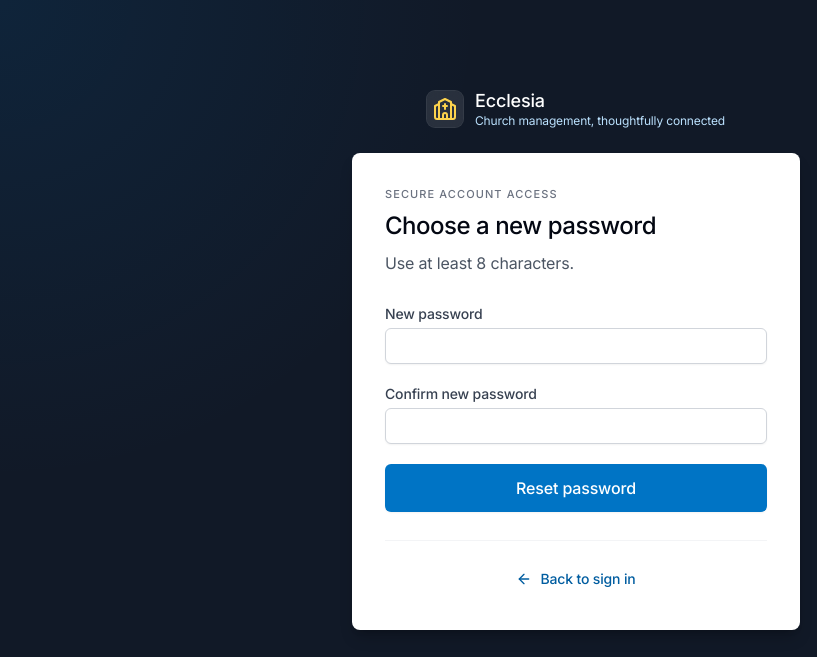
Test case: ResetPasswordPage › blocks submit when passwords do not match
Type "longenough1" into the password field labelled "New password". click: (576,346)
box: [385,328,767,364]
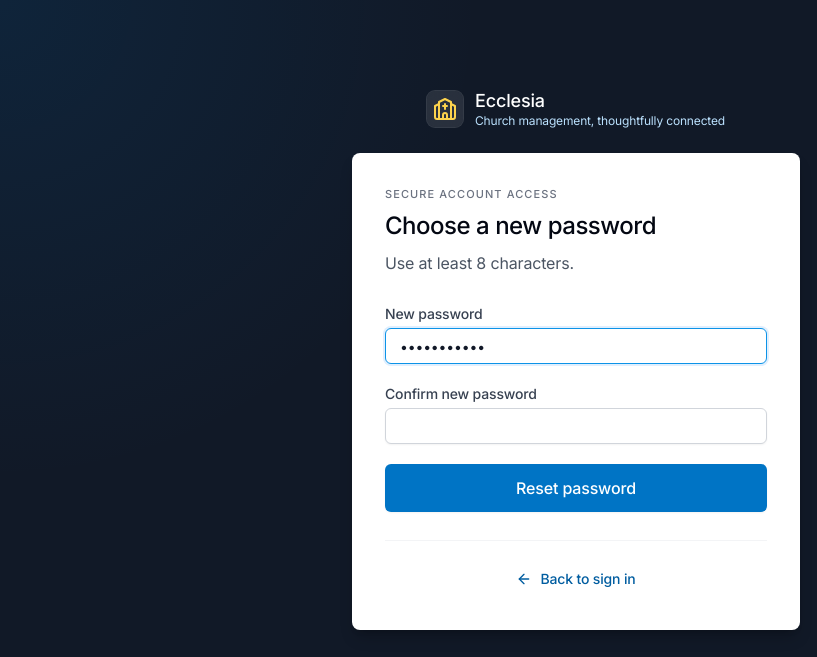
Type "different12" into the password field labelled "Confirm new password". click: (576,426)
box: [385,408,767,444]
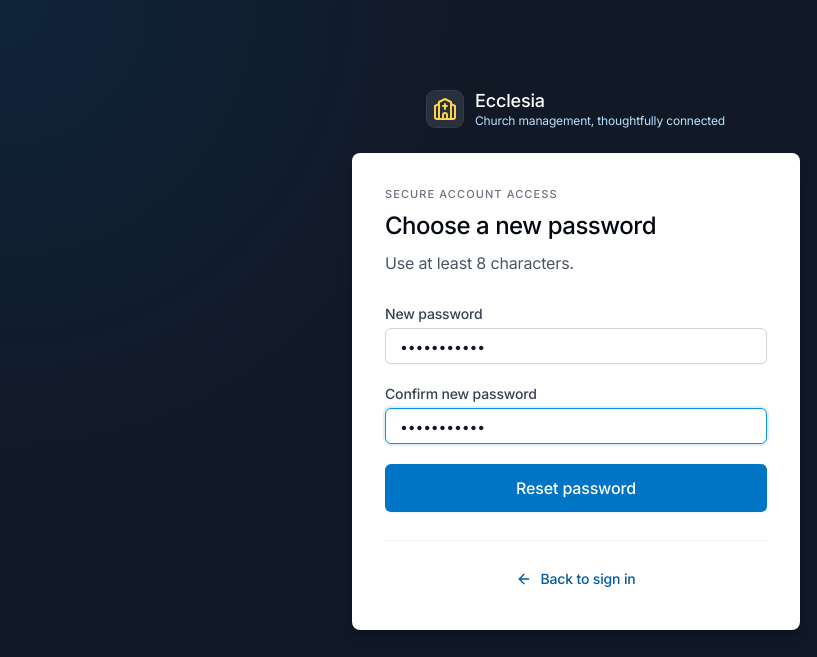
Click the button "Reset password". click: (576,488)
box: [385,464,767,512]
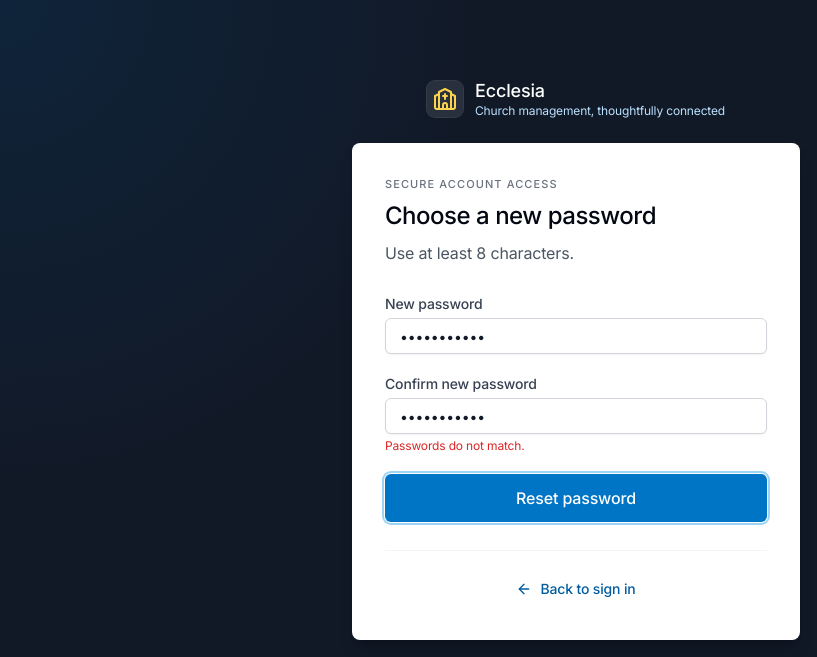
Expected: the text "Passwords do not match." is shown, [385,438,524,453]
